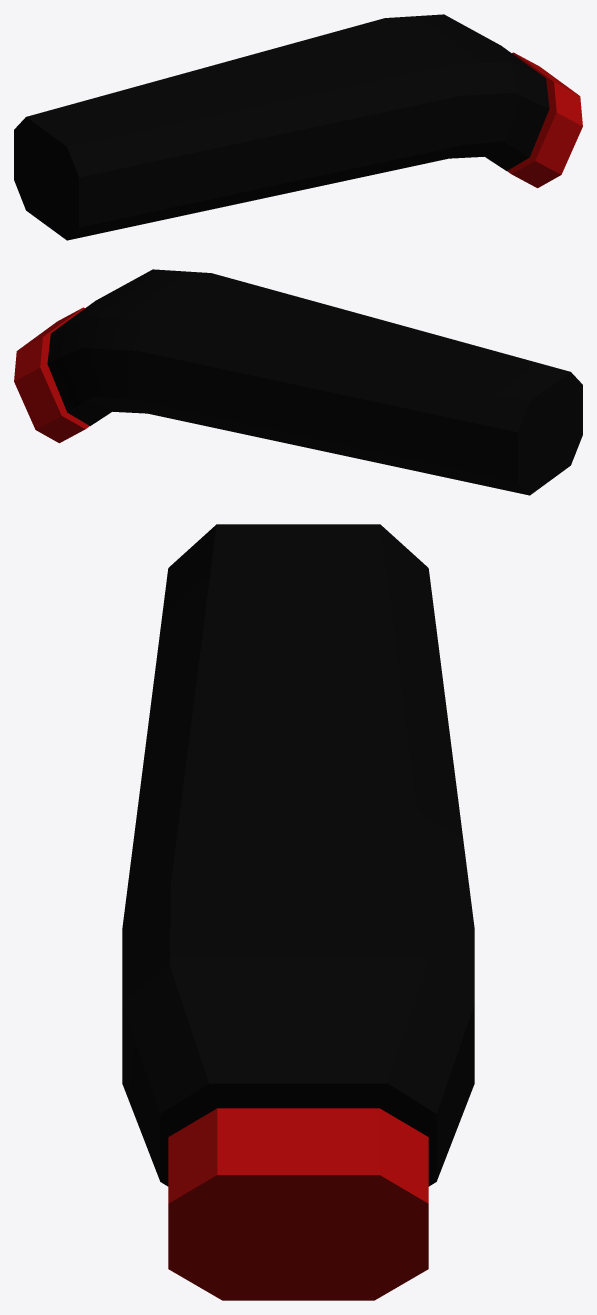
File: scanner.fbx
3 renders of one model, top to bottom at view 1: azimuth 30°, elevation 25°; view 2: azimuth 150°, elevation 25°; view 3: azimuth 270°, elevation 25°, orthographic. The views are drawn at different scales.
Parts seen in each view (by area): view 1: polySurface26, polySurface27; view 2: polySurface26, polySurface27; view 3: polySurface26, polySurface27.
Boxes of the visible parts, <box> form: polySurface26: <box>14,14,549,240</box>; polySurface27: <box>507,52,582,188</box>; polySurface26: <box>47,269,582,495</box>; polySurface27: <box>14,307,89,443</box>; polySurface26: <box>122,524,474,1186</box>; polySurface27: <box>168,1108,428,1300</box>.
Size of the model in its own units: 44.91 by 13.18 by 13.35.
